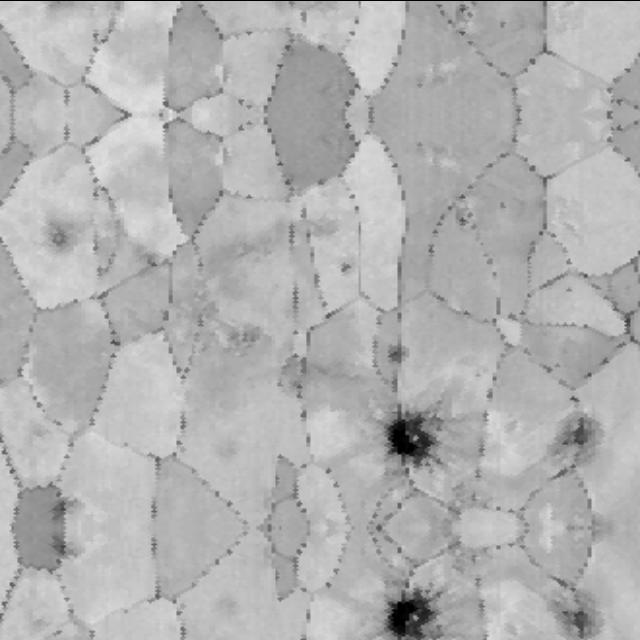good_void: (376, 396, 444, 468), (30, 198, 93, 263), (542, 401, 604, 462), (377, 585, 443, 640), (542, 590, 604, 640), (219, 312, 276, 362), (273, 346, 314, 393), (448, 197, 482, 238), (45, 490, 85, 524), (45, 529, 85, 562), (39, 0, 86, 18), (333, 255, 359, 283), (452, 0, 480, 26), (385, 339, 409, 363), (566, 391, 585, 403), (495, 197, 510, 210), (495, 16, 510, 29), (561, 280, 574, 292)
